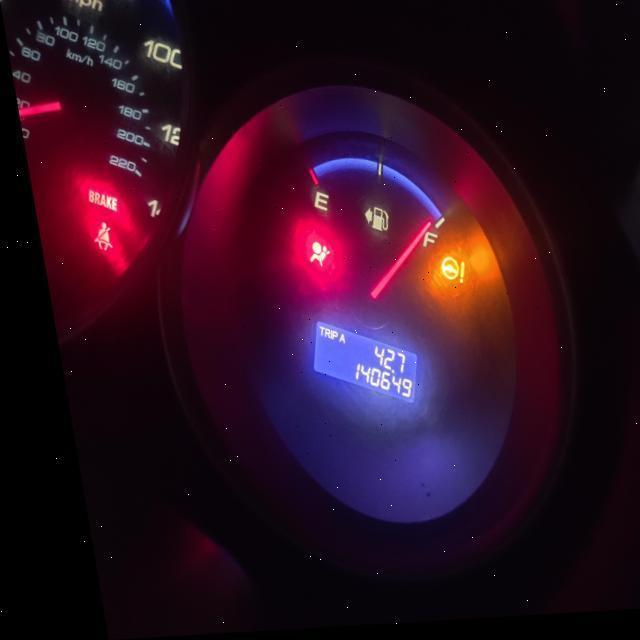Electronic Power Steering Warning: (436, 252, 469, 282)
Seat Belt: (92, 219, 112, 255)
